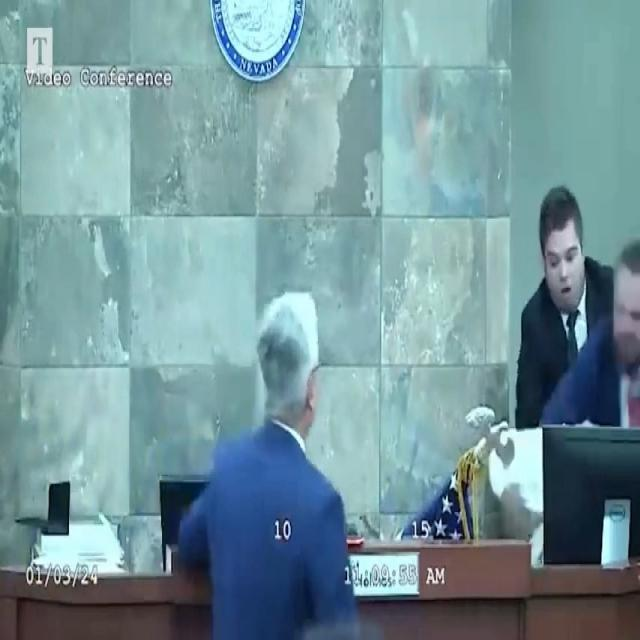fight: (511, 177, 640, 431)
non-fight: (172, 277, 365, 640)
